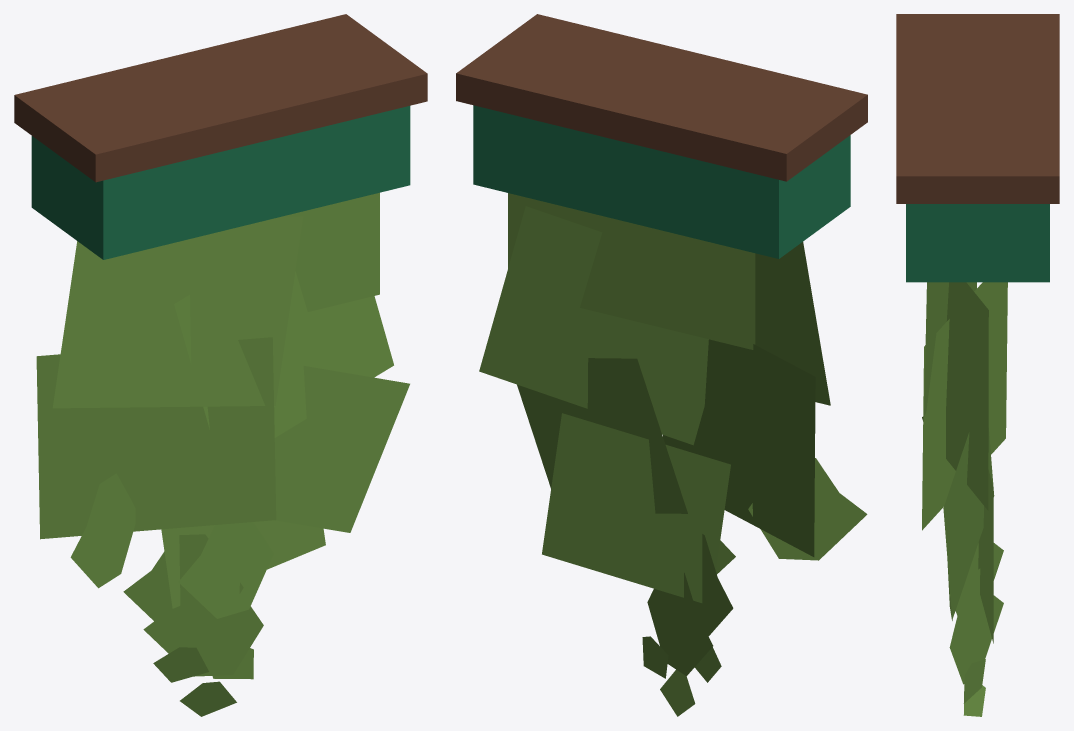
The model's file is quay-vine-mint.glb.
3 renders of one model, left to right at view 1: azimuth 30°, elevation 25°; view 2: azimuth 150°, elevation 25°; view 3: azimuth 270°, elevation 25°, orthographic.
Parts seen in each view (by area): view 1: quay-vine-mint; view 2: quay-vine-mint; view 3: quay-vine-mint.
Part boxes in pixels (x1=…): quay-vine-mint: x1=14, y1=14, x2=427, y2=716; quay-vine-mint: x1=456, y1=14, x2=867, y2=716; quay-vine-mint: x1=896, y1=14, x2=1059, y2=716.
Size of the model in its own units: 0.86 by 1.45 by 0.34.
